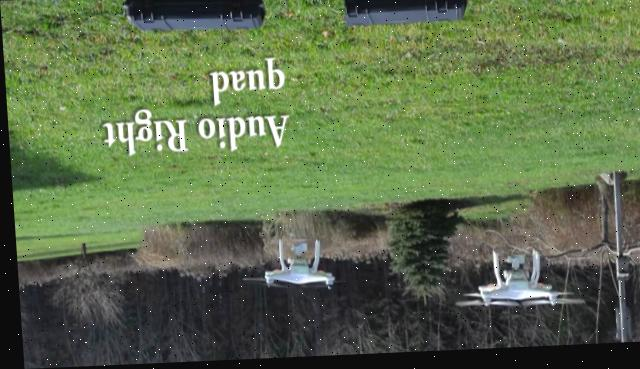drone: (442, 240, 588, 326), (251, 234, 338, 301)
